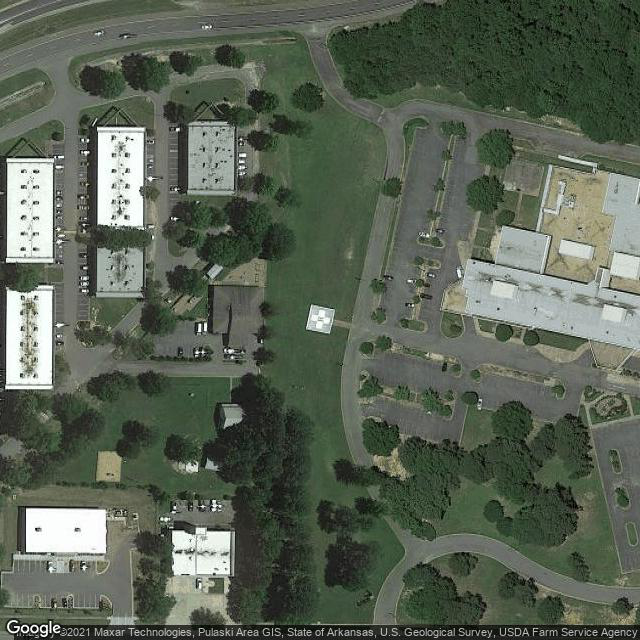Helipad: (304, 301, 336, 334)
